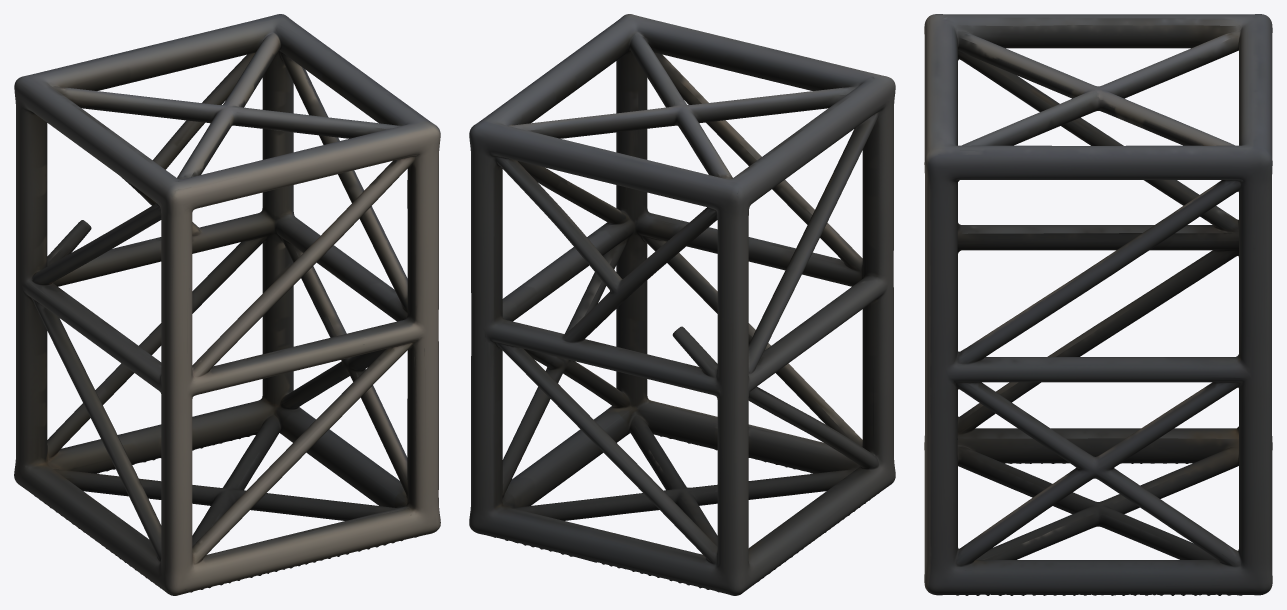
File: tiejia.fbx
3 views of the same model, side by side, from view 1: azimuth 30°, elevation 25°; view 2: azimuth 150°, elevation 25°; view 3: azimuth 270°, elevation 25° (orthographic). The views are drawn at different scales.
Visible parts, largest first — view 1: node_0; view 2: node_0; view 3: node_0.
Boxes of the visible parts, box(x1,y1,x2,y2) form: node_0: box(14, 14, 440, 595); node_0: box(469, 14, 895, 595); node_0: box(924, 14, 1272, 595).
Size of the model in its own units: 61.06 by 87.26 by 61.86.
